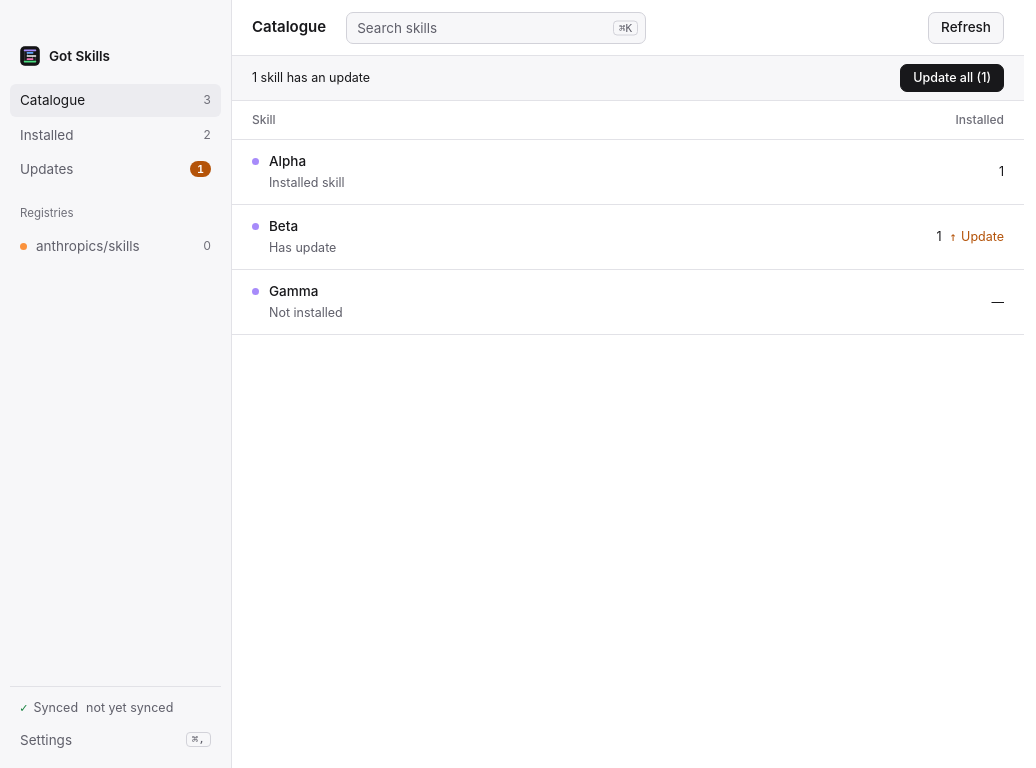
it: App shell › Catalogue / Installed / Updates views filter the rows, and rows show status glyphs
The width and height of the screenshot is (1036, 768).
Expected: the text "Alpha" is shown, [269, 151, 306, 171]
Expected: the text "Beta" is shown, [269, 216, 298, 236]
Click the button "Installed 2" at (116, 135), box [10, 118, 221, 151]
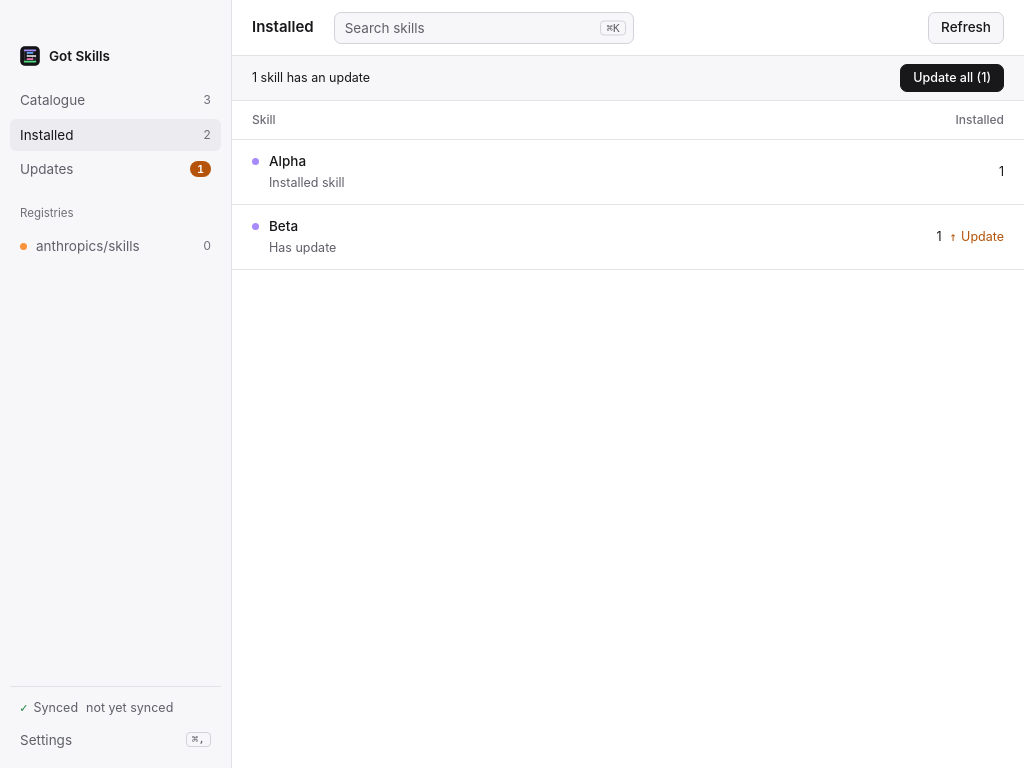
Expected: the text "Alpha" is shown, [269, 151, 306, 171]
Expected: the option "Gamma" is gone
Click the button "Updates 1" at (116, 169), box [10, 153, 221, 185]
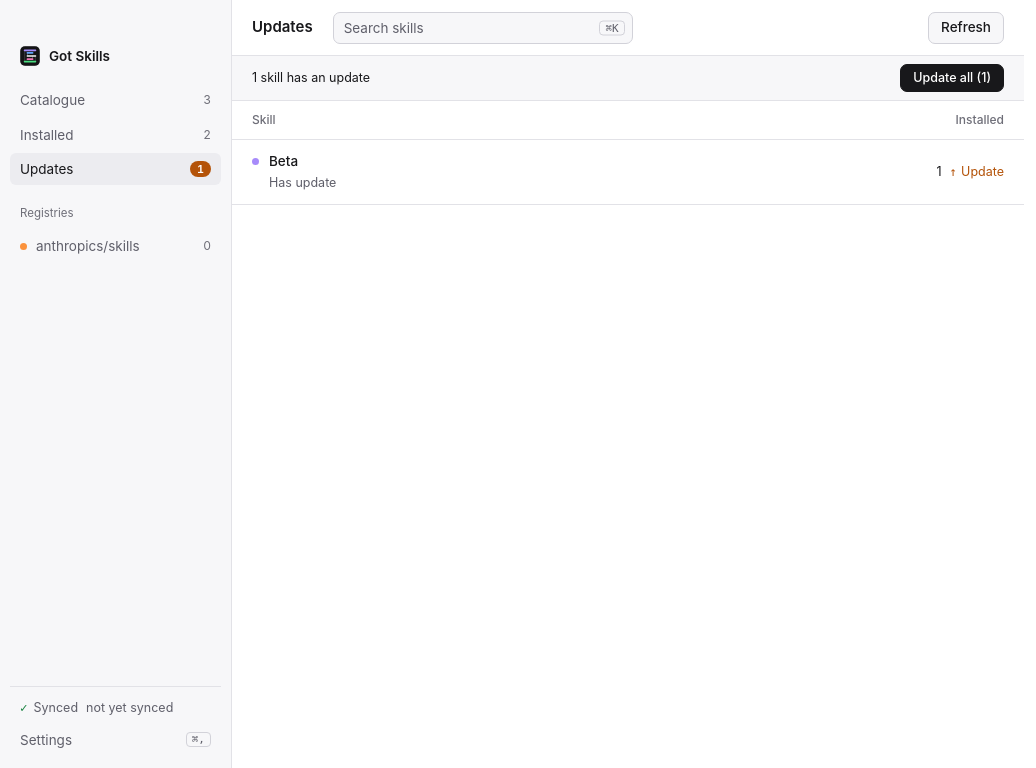
Expected: the text "Beta" is shown, [269, 151, 298, 171]
Expected: the option "Alpha" is gone
